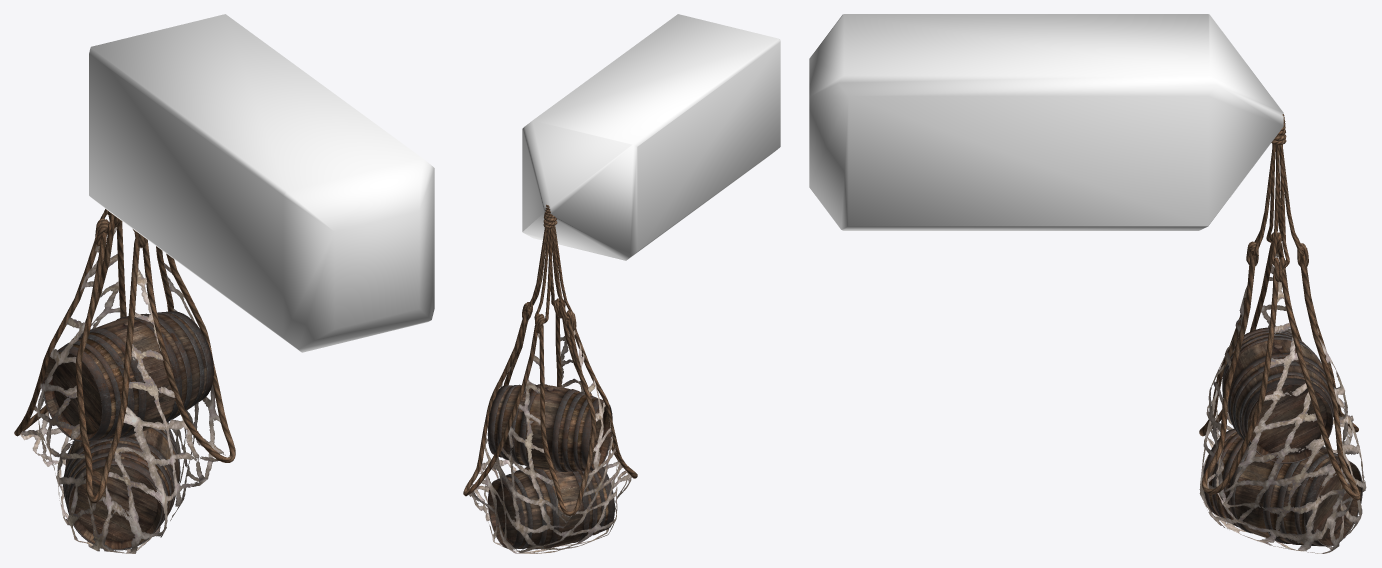
Rendered from SM_BarrelsInNet_A.fbx.
3 renders of one model, left to right at view 1: azimuth 30°, elevation 25°; view 2: azimuth 150°, elevation 25°; view 3: azimuth 270°, elevation 25°, orthographic. The views are drawn at different scales.
Visible parts, largest first — view 1: SM_BarrelsInNet_A_ConvexHulls, SM_BarrelsInNet_A; view 2: SM_BarrelsInNet_A_ConvexHulls, SM_BarrelsInNet_A; view 3: SM_BarrelsInNet_A_ConvexHulls, SM_BarrelsInNet_A.
Part boxes in pixels (bbox=[...]): SM_BarrelsInNet_A_ConvexHulls: bbox=[89, 14, 434, 352]; SM_BarrelsInNet_A: bbox=[14, 209, 235, 553]; SM_BarrelsInNet_A_ConvexHulls: bbox=[522, 14, 780, 260]; SM_BarrelsInNet_A: bbox=[463, 204, 637, 553]; SM_BarrelsInNet_A_ConvexHulls: bbox=[809, 14, 1283, 230]; SM_BarrelsInNet_A: bbox=[1199, 114, 1366, 553].
Size of the model in its own units: 1.22 by 4.04 by 4.13.
